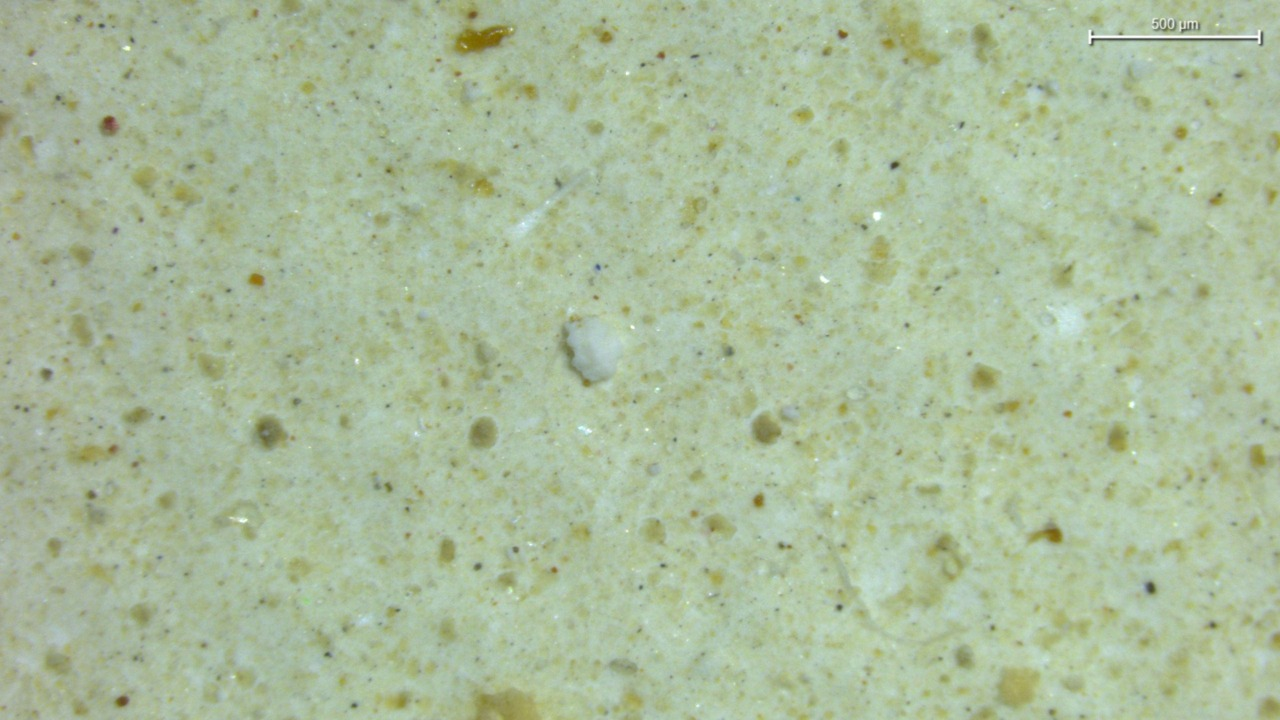microplastic_fragment: (564, 317, 622, 382)
